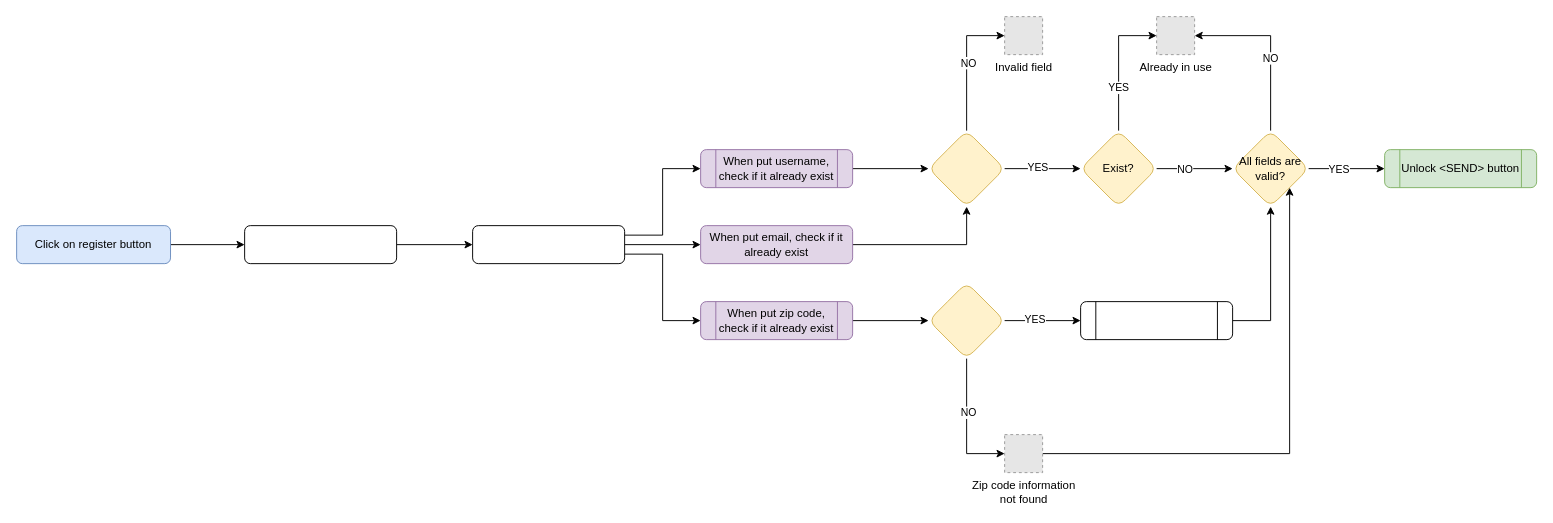
The diagram is 1553 pixels wide and 523 high, and some of its shapes have lost their labels. Grey dashed boxes stand in for pictures. Each missing label, with the centre of its shape:
Found address information?: (966,320)
Is valid?: (966,168)
Lock <SEND> Button: (548,244)
Open register modal: (320,244)
Put information on screen: (1156,320)
